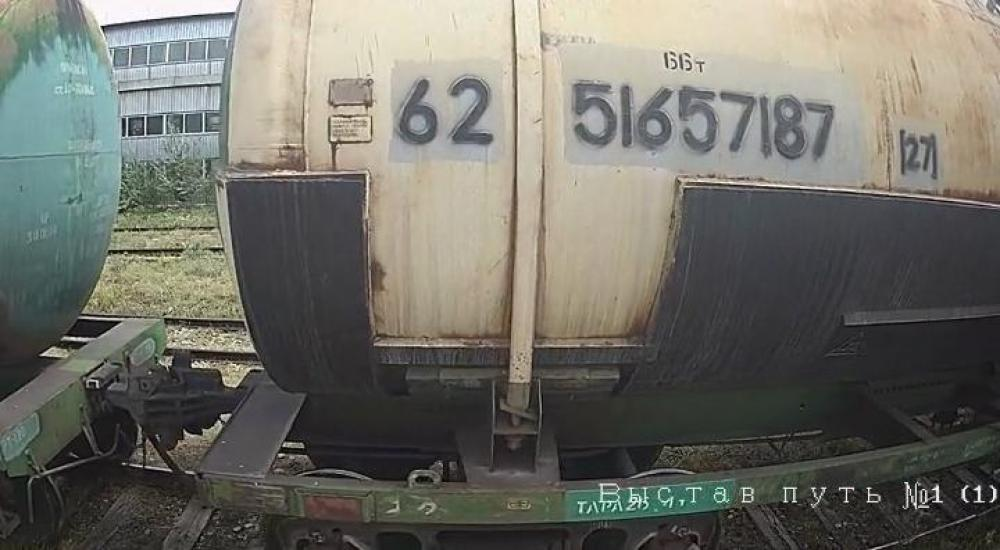Wagon-number: (565, 76, 844, 168)
